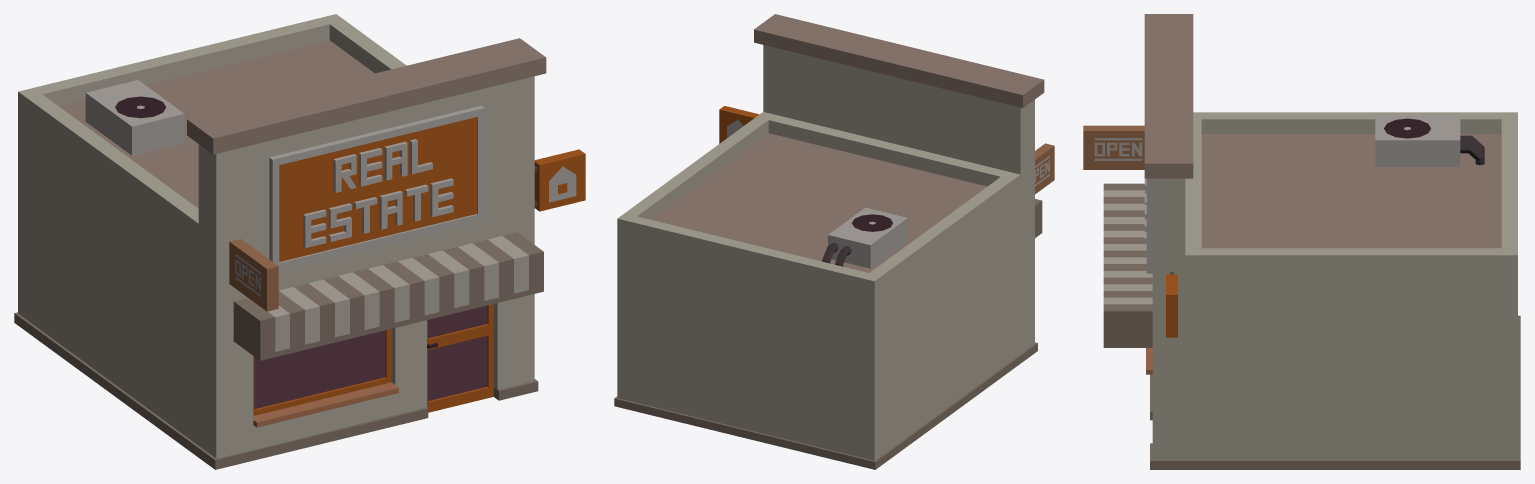
The model's file is Building_19.fbx.
3 renders of one model, left to right at view 1: azimuth 30°, elevation 25°; view 2: azimuth 150°, elevation 25°; view 3: azimuth 270°, elevation 25°, orthographic. The views are drawn at different scales.
Visible parts, largest first — view 1: Building_19, Building_19LP; view 2: Building_19; view 3: Building_19, Building_19LP.
Boxes of the visible parts, bbox=[...] form: Building_19: bbox=[14, 14, 585, 469]; Building_19LP: bbox=[235, 105, 576, 409]; Building_19: bbox=[614, 14, 1054, 469]; Building_19: bbox=[1083, 14, 1520, 469]; Building_19LP: bbox=[1094, 138, 1152, 273].
Size of the model in its own units: 7.8 by 6.5 by 8.35.
